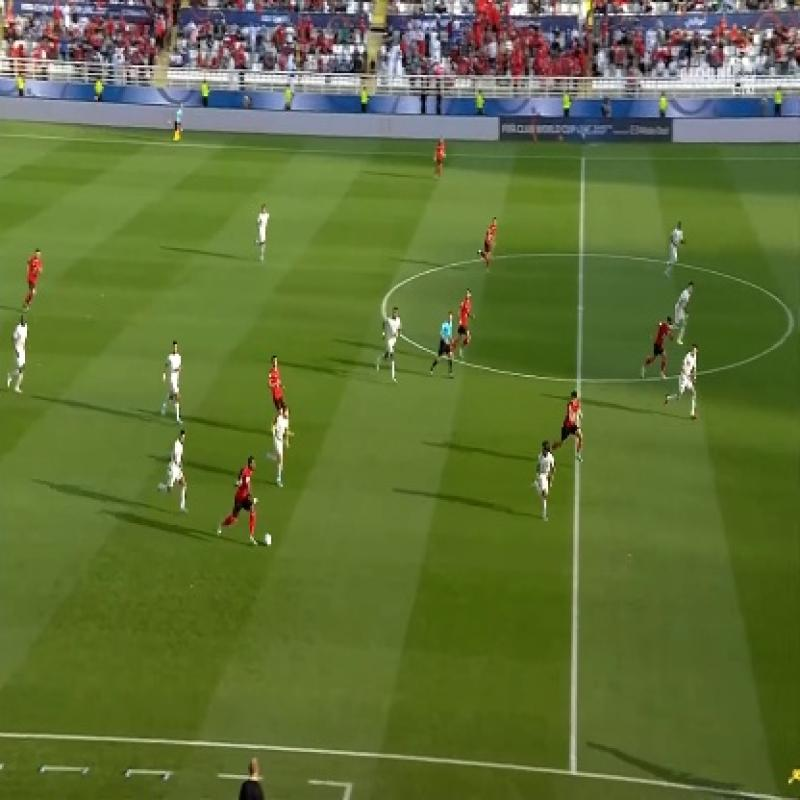13: (572, 144, 590, 168)
14: (569, 238, 594, 268)
15: (564, 356, 594, 400)
16: (554, 744, 593, 792)
c: (368, 290, 400, 322), (780, 305, 800, 339)
